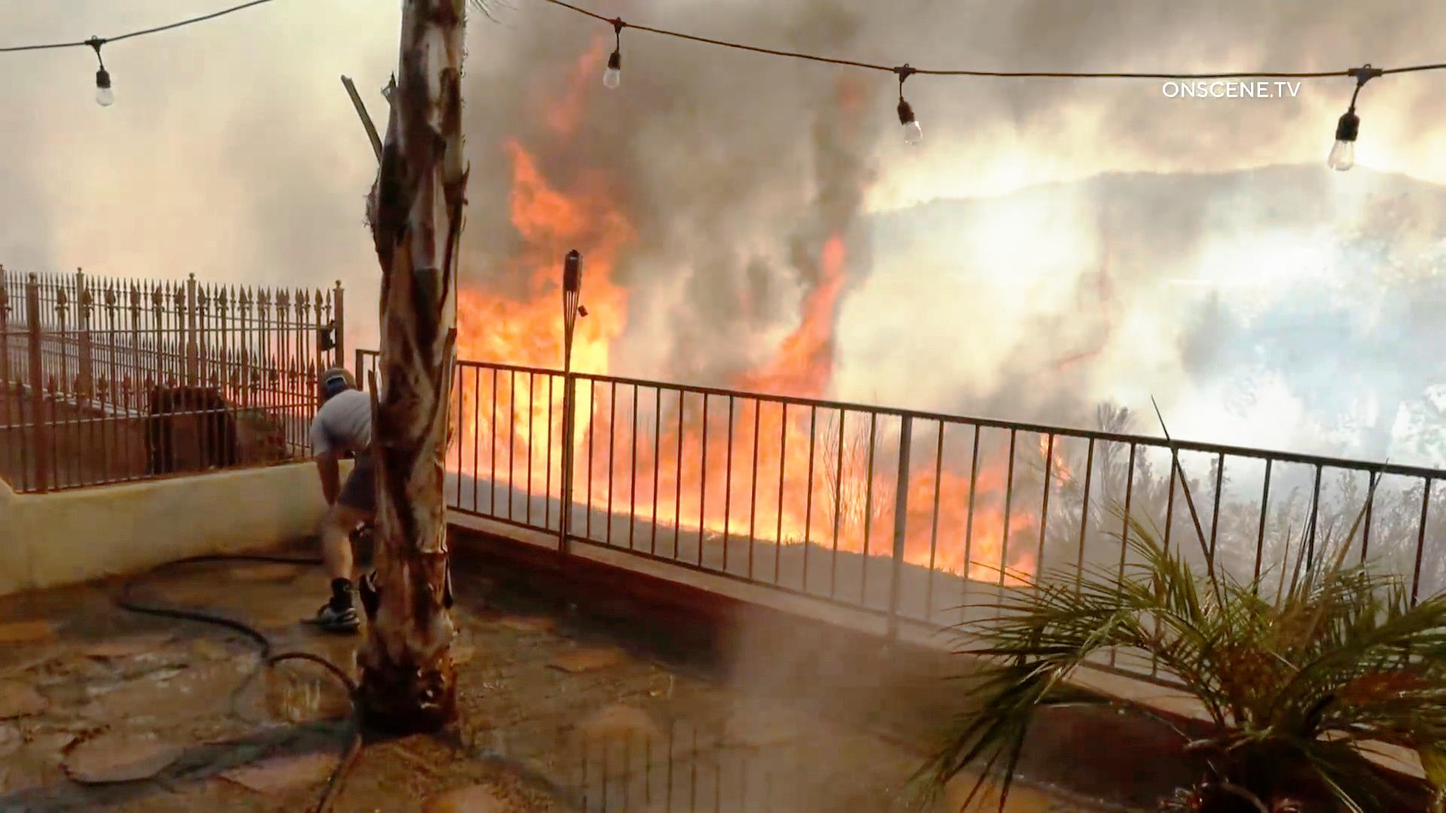fire: (585, 249, 855, 506), (590, 349, 826, 550), (477, 153, 551, 491)
smoke: (1008, 14, 1147, 390), (607, 108, 849, 229)
